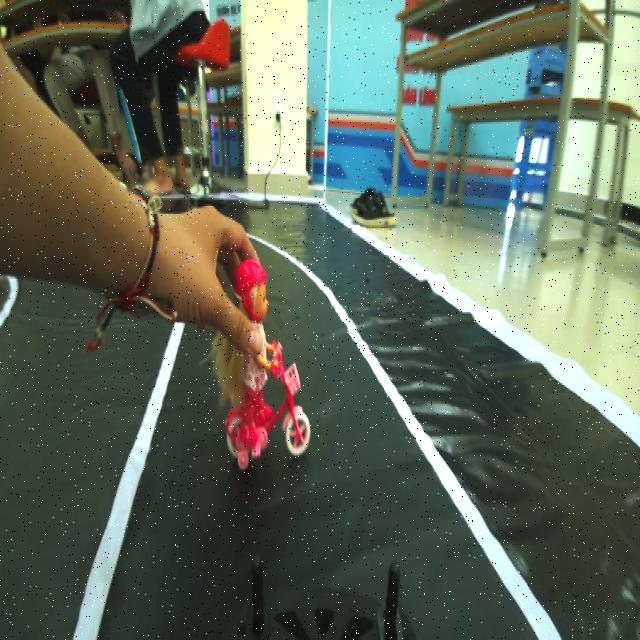pedestrian: (226, 248, 320, 462)
